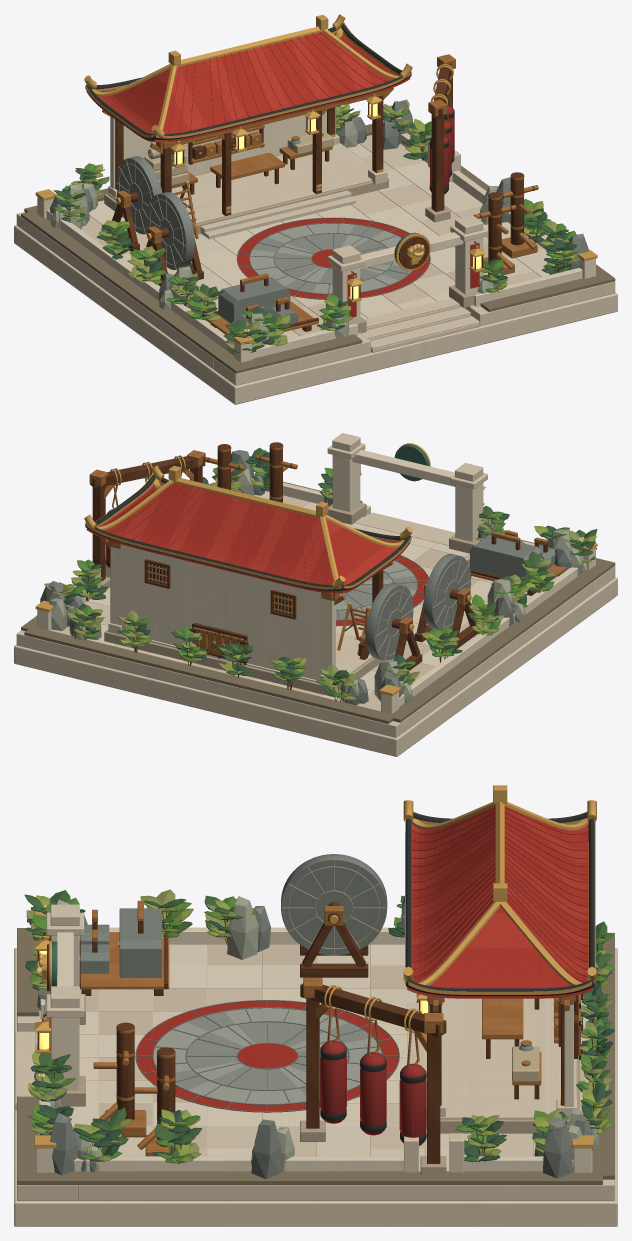
File: martial-v23-user-accepted.glb
The picture shows the model from 3 angles, top to bottom: view 1: azimuth 30°, elevation 25°; view 2: azimuth 150°, elevation 25°; view 3: azimuth 270°, elevation 25°; orthographic projection. The views are drawn at different scales.
Parts seen in each view (by area): view 1: SM_Martial_MAT_CT2_Stone.008, SM_Martial_MAT_CT2_IvoryPlaster.008, SM_Martial_MAT_CT2_FoldedTerracotta.008, SM_Martial_MAT_CT2_DarkTimber.008, SM_Martial_MAT_CT2_TrainingStone.008, SM_Martial_MAT_CT2_FoldedTerracottaAlt.008, SM_Martial_MAT_CT2_MatteCopper.008, SM_Martial_MAT_CT2_HoneyTimber.008, SM_Martial_MAT_CT2_PlantingSoil.008, SM_Martial_MAT_CT2_PavingTone_1.008, SM_Martial_MAT_CT2_PracticeGreyStoneLight.008, SM_Martial_MAT_CT2_PracticeGreyStone.008 (+16 smaller); view 2: SM_Martial_MAT_CT2_IvoryPlaster.008, SM_Martial_MAT_CT2_Stone.008, SM_Martial_MAT_CT2_FoldedTerracotta.008, SM_Martial_MAT_CT2_TrainingStone.008, SM_Martial_MAT_CT2_PlantingSoil.008, SM_Martial_MAT_CT2_DarkTimber.008, SM_Martial_MAT_CT2_FoldedTerracottaAlt.008, SM_Martial_MAT_CT2_MatteCopper.008, SM_Martial_MAT_CT2_HoneyTimber.008, SM_Martial_MAT_CT2_StoneShadow.008, SM_Martial_MAT_CT2_LeafBright.008, SM_Martial_MAT_CT2_FacetedRockLight.008 (+14 smaller); view 3: SM_Martial_MAT_CT2_Stone.008, SM_Martial_MAT_CT2_FoldedTerracotta.008, SM_Martial_MAT_CT2_TrainingStone.008, SM_Martial_MAT_CT2_IvoryPlaster.008, SM_Martial_MAT_CT2_FoldedTerracottaAlt.008, SM_Martial_MAT_CT2_DarkTimber.008, SM_Martial_MAT_CT2_PlantingSoil.008, SM_Martial_MAT_CT2_HoneyTimber.008, SM_Martial_MAT_CT2_MatteCopper.008, SM_Martial_MAT_CT2_PavingTone_1.008, SM_Martial_MAT_CT2_PracticeGreyStoneLight.008, SM_Martial_MAT_CT2_PavingTone_3.008 (+15 smaller).
Boxes of the visible parts, x1,y1,x2,y2 form: SM_Martial_MAT_CT2_Stone.008: (14, 134, 617, 404); SM_Martial_MAT_CT2_IvoryPlaster.008: (37, 107, 595, 362); SM_Martial_MAT_CT2_FoldedTerracotta.008: (104, 32, 479, 317); SM_Martial_MAT_CT2_DarkTimber.008: (71, 63, 564, 339); SM_Martial_MAT_CT2_TrainingStone.008: (50, 101, 588, 331); SM_Martial_MAT_CT2_FoldedTerracottaAlt.008: (86, 32, 449, 184); SM_Martial_MAT_CT2_MatteCopper.008: (35, 14, 597, 344); SM_Martial_MAT_CT2_HoneyTimber.008: (102, 54, 538, 334); SM_Martial_MAT_CT2_PlantingSoil.008: (21, 124, 615, 373); SM_Martial_MAT_CT2_PavingTone_1.008: (157, 143, 551, 338); SM_Martial_MAT_CT2_PracticeGreyStoneLight.008: (250, 223, 401, 293); SM_Martial_MAT_CT2_PracticeGreyStone.008: (253, 224, 411, 292); SM_Martial_MAT_CT2_IvoryPlaster.008: (37, 449, 595, 713); SM_Martial_MAT_CT2_Stone.008: (14, 433, 617, 756); SM_Martial_MAT_CT2_FoldedTerracotta.008: (90, 483, 428, 626); SM_Martial_MAT_CT2_TrainingStone.008: (40, 450, 571, 705); SM_Martial_MAT_CT2_PlantingSoil.008: (21, 481, 615, 723); SM_Martial_MAT_CT2_DarkTimber.008: (67, 442, 560, 702); SM_Martial_MAT_CT2_FoldedTerracottaAlt.008: (86, 483, 410, 593); SM_Martial_MAT_CT2_MatteCopper.008: (35, 443, 597, 696); SM_Martial_MAT_CT2_HoneyTimber.008: (89, 445, 566, 661); SM_Martial_MAT_CT2_StoneShadow.008: (101, 502, 479, 697); SM_Martial_MAT_CT2_LeafBright.008: (59, 450, 581, 698); SM_Martial_MAT_CT2_FacetedRockLight.008: (49, 468, 585, 702); SM_Martial_MAT_CT2_Stone.008: (14, 904, 617, 1226); SM_Martial_MAT_CT2_FoldedTerracotta.008: (49, 808, 593, 1112); SM_Martial_MAT_CT2_TrainingStone.008: (43, 854, 592, 1179); SM_Martial_MAT_CT2_IvoryPlaster.008: (36, 927, 592, 1172); SM_Martial_MAT_CT2_FoldedTerracottaAlt.008: (320, 806, 593, 1135); SM_Martial_MAT_CT2_DarkTimber.008: (37, 902, 598, 1163); SM_Martial_MAT_CT2_PlantingSoil.008: (17, 928, 614, 1184); SM_Martial_MAT_CT2_HoneyTimber.008: (80, 900, 580, 1156); SM_Martial_MAT_CT2_MatteCopper.008: (34, 785, 596, 1148); SM_Martial_MAT_CT2_PavingTone_1.008: (99, 944, 587, 1171); SM_Martial_MAT_CT2_PracticeGreyStoneLight.008: (153, 1008, 381, 1103); SM_Martial_MAT_CT2_PavingTone_3.008: (61, 944, 467, 1171).
Size of the model in its own units: 10 by 4.81 by 10.
Materials: 34 (12 with a texture image).
